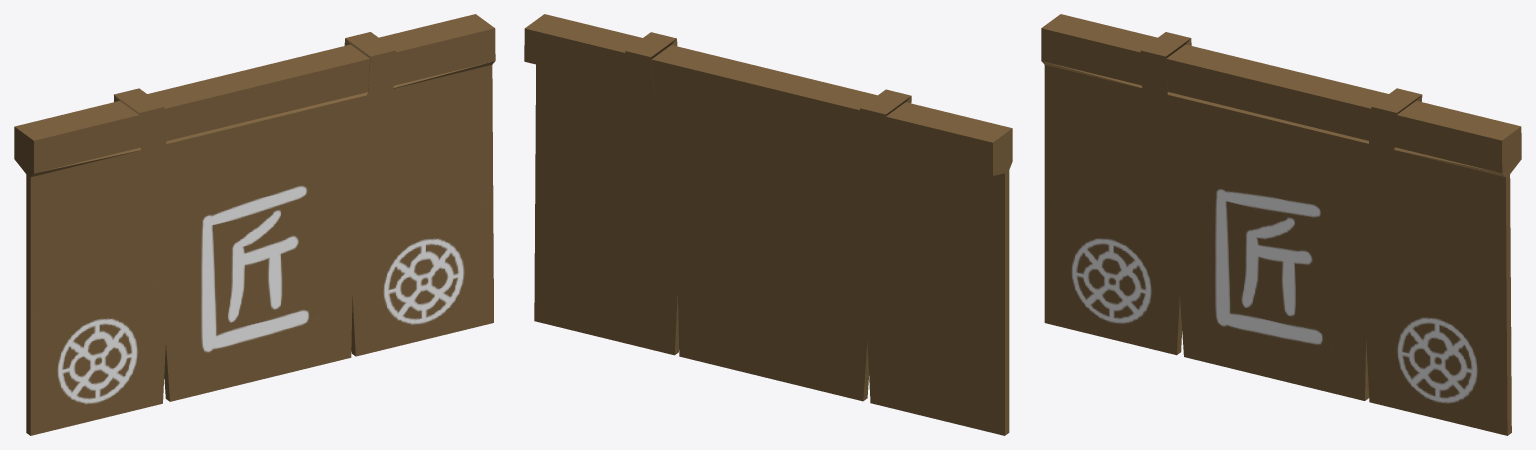
Rendered from Noren_Brown_Forge.gltf.
3 renders of one model, left to right at view 1: azimuth 30°, elevation 25°; view 2: azimuth 150°, elevation 25°; view 3: azimuth 330°, elevation 25°, orthographic.
Parts seen in each view (by area): view 1: Noren_Brown_Forge; view 2: Noren_Brown_Forge; view 3: Noren_Brown_Forge.
Boxes of the visible parts, x1=… form: Noren_Brown_Forge: x1=14, y1=14, x2=495, y2=435; Noren_Brown_Forge: x1=524, y1=14, x2=1012, y2=435; Noren_Brown_Forge: x1=1041, y1=14, x2=1521, y2=435.
Bounding box in the file's own units: 1 × 0.6267 × 0.0953.
Materials: 1 (1 with a texture image).
